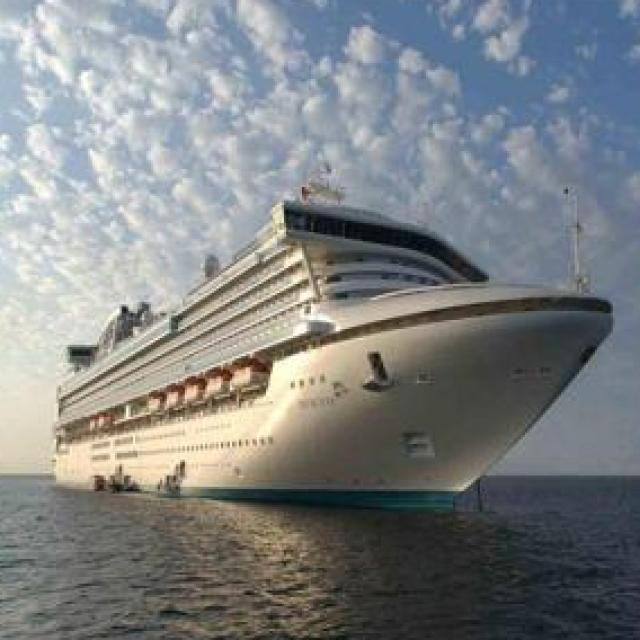passenger ship: (49, 192, 637, 528)
